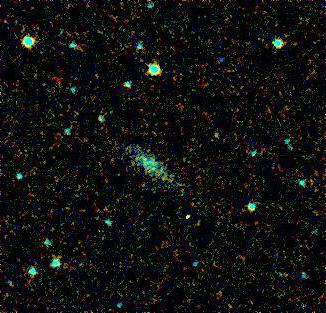star: (176, 202, 206, 232)
